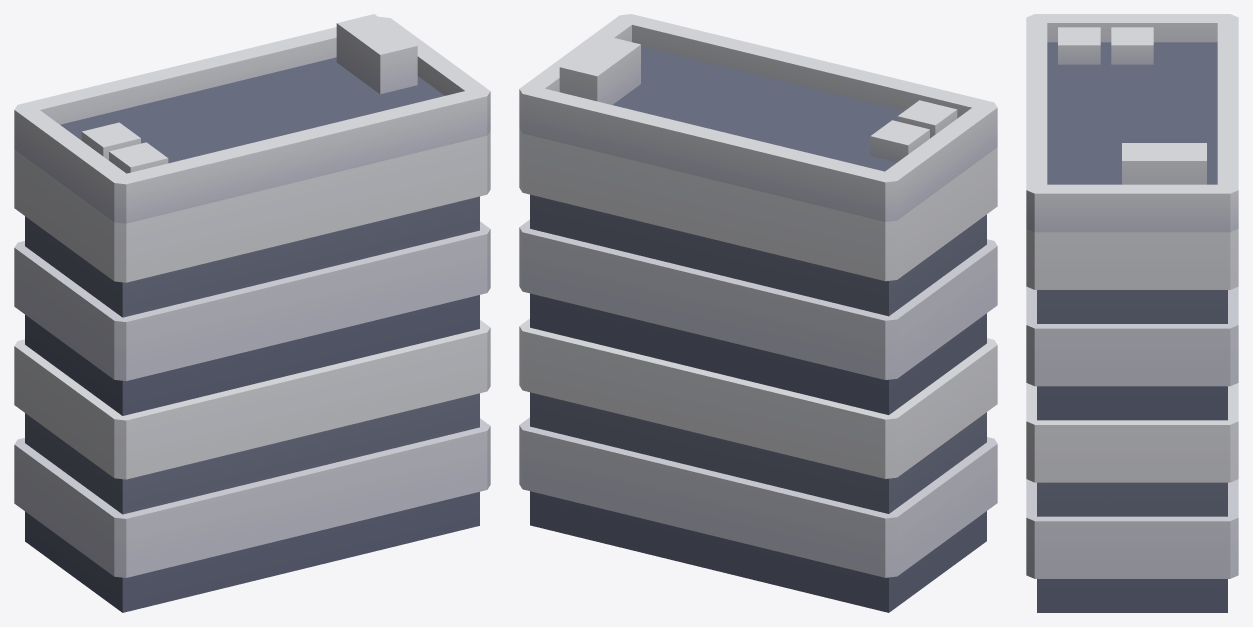
The model's file is commercial__low-detail-building-wide-b.glb.
The picture shows the model from 3 angles, left to right: view 1: azimuth 30°, elevation 25°; view 2: azimuth 150°, elevation 25°; view 3: azimuth 270°, elevation 25°; orthographic projection. The views are drawn at different scales.
Parts seen in each view (by area): view 1: low-detail-building-wide-b; view 2: low-detail-building-wide-b; view 3: low-detail-building-wide-b.
Part boxes in pixels (x1,y1,x2,y2): low-detail-building-wide-b: (14, 14, 490, 612); low-detail-building-wide-b: (519, 14, 997, 612); low-detail-building-wide-b: (1026, 14, 1238, 612).
Bounding box in the file's own units: 1 × 1.15 × 0.4999.
Materials: 1 (1 with a texture image).
